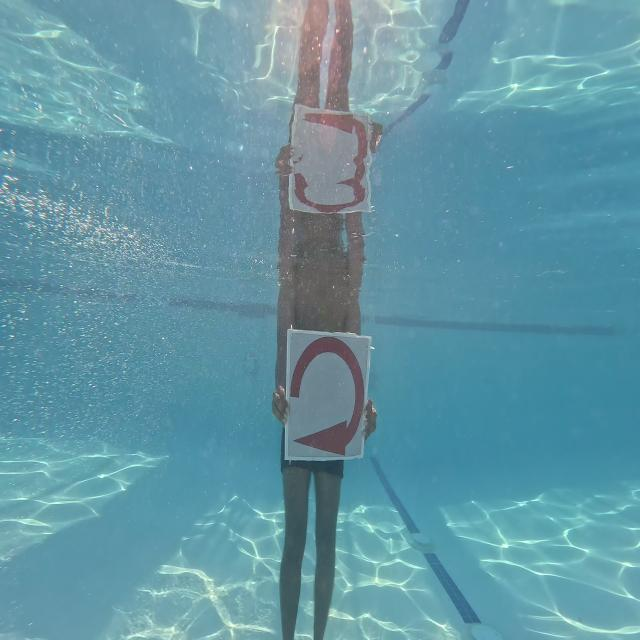red_side: (287, 328, 367, 463)
